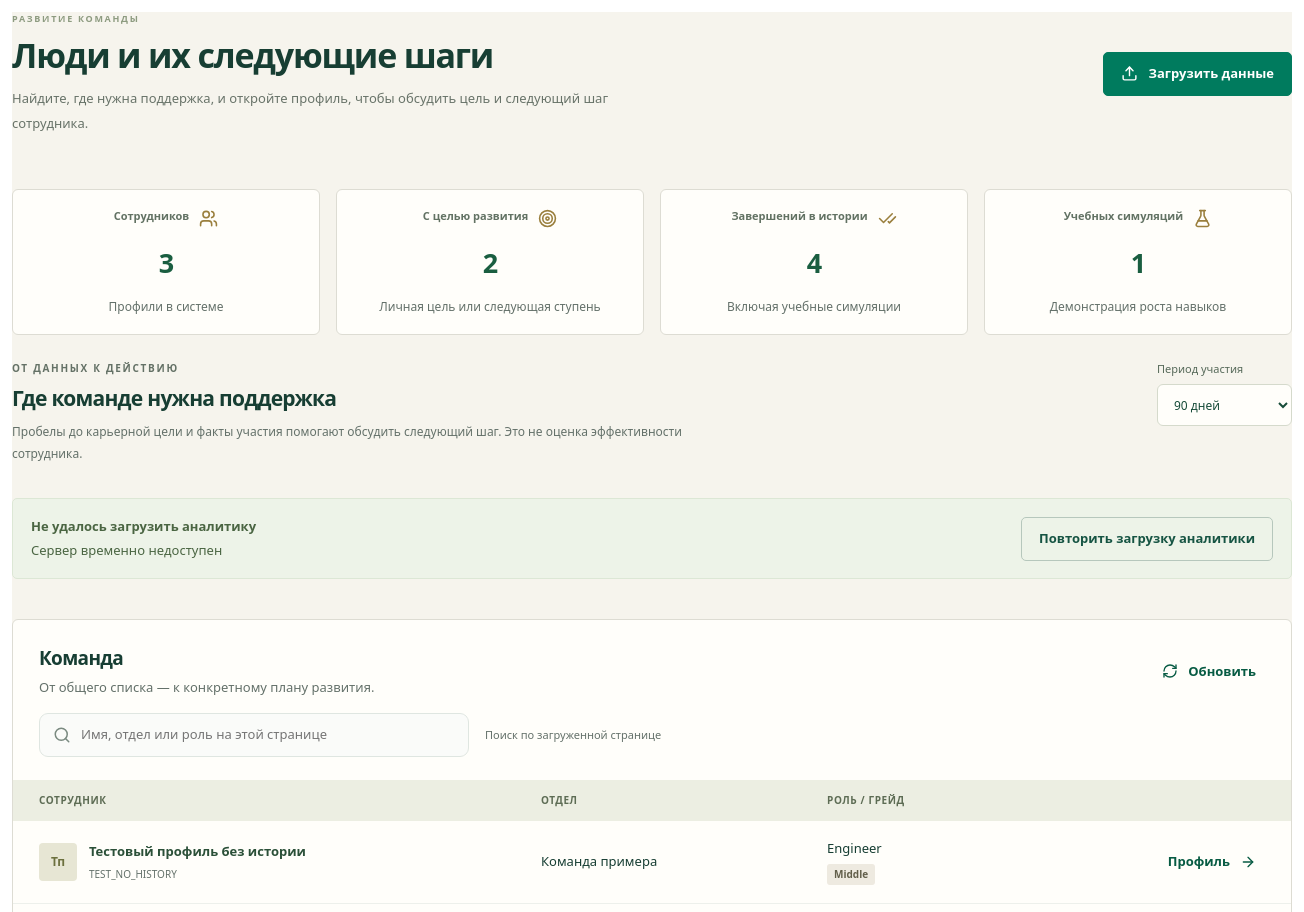
it: HR analytics › lets HR retry analytics without blocking the employee directory and original summary
expect the message shows "Сервер временно недоступен": met, box [31, 541, 222, 559]
expect the button with aria-label "Открыть профиль: Тестовый профиль без истории" is enabled: met, box [1159, 840, 1265, 884]
Click the button "Повторить загрузку аналитики" at (1147, 539), box [1021, 517, 1273, 561]
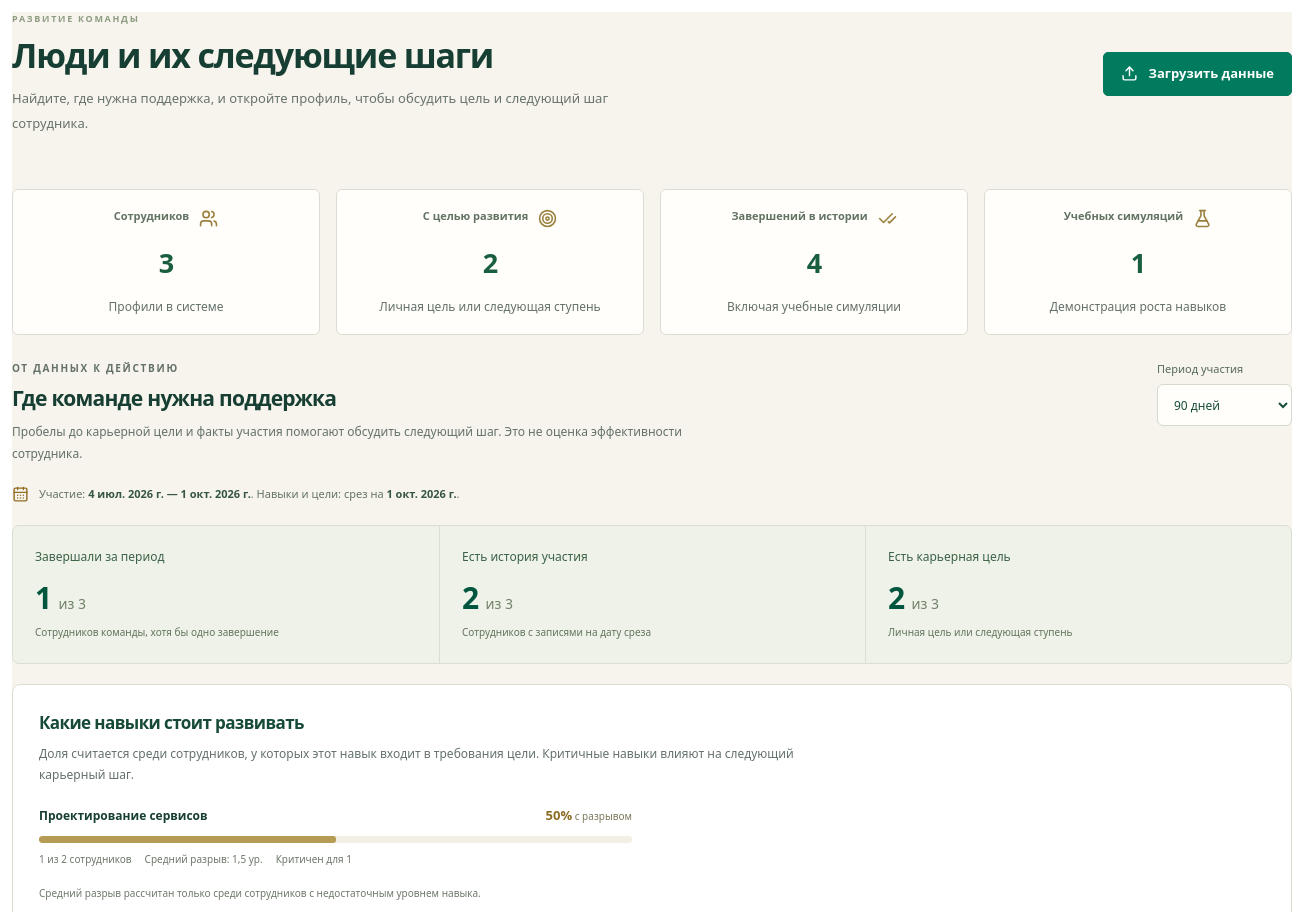
expect the text "Проектирование сервисов" is shown: met, box [39, 807, 208, 825]
